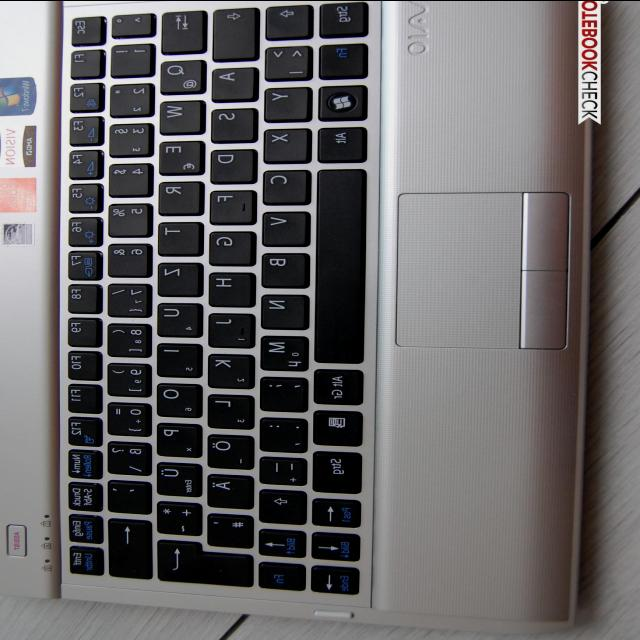0: (103, 400, 149, 434)
1: (106, 41, 151, 75)
2: (106, 81, 150, 115)
3: (104, 120, 150, 155)
4: (105, 161, 149, 195)
5: (105, 201, 149, 235)
6: (104, 241, 148, 275)
7: (103, 281, 149, 316)
8: (103, 321, 149, 356)
9: (103, 360, 148, 395)
a: (207, 65, 254, 99)
accent: (103, 478, 147, 511)
ae: (204, 472, 251, 507)
alt-left: (314, 124, 364, 160)
altgr-right: (310, 367, 360, 403)
b: (257, 249, 307, 286)
c: (259, 166, 307, 202)
caret: (107, 11, 151, 34)
comma: (256, 374, 304, 410)
d: (206, 146, 254, 180)
del: (104, 517, 148, 576)
e: (156, 138, 202, 173)
enter: (154, 537, 250, 584)
f: (206, 187, 254, 222)
g: (205, 228, 252, 262)
h: (205, 269, 252, 305)
hash: (203, 511, 251, 545)
i: (153, 341, 199, 375)
j: (204, 310, 252, 345)
k: (204, 351, 251, 386)
keyboard: (55, 0, 377, 602)
l: (203, 392, 251, 426)
less: (260, 43, 309, 79)
m: (256, 331, 306, 369)
minus: (256, 455, 304, 484)
n: (257, 291, 305, 327)
o: (153, 380, 199, 415)
oe: (204, 432, 251, 466)
p: (152, 420, 198, 455)
plus: (152, 499, 199, 533)
point: (256, 414, 305, 450)
q: (155, 57, 203, 92)
r: (155, 179, 201, 213)
s: (207, 105, 255, 139)
shift-left: (261, 2, 309, 37)
shift-lock: (208, 5, 255, 58)
shift-right: (257, 487, 305, 525)
space: (312, 166, 362, 362)
ss: (104, 439, 148, 473)
strg-left: (315, 0, 365, 34)
strg-right: (308, 448, 358, 491)
t: (154, 219, 200, 254)
tab: (157, 9, 203, 51)
u: (153, 300, 200, 335)
ue: (152, 460, 200, 495)
v: (258, 208, 307, 244)
w: (155, 97, 201, 131)
x: (260, 126, 308, 161)
y: (260, 84, 308, 119)
z: (154, 260, 200, 295)
